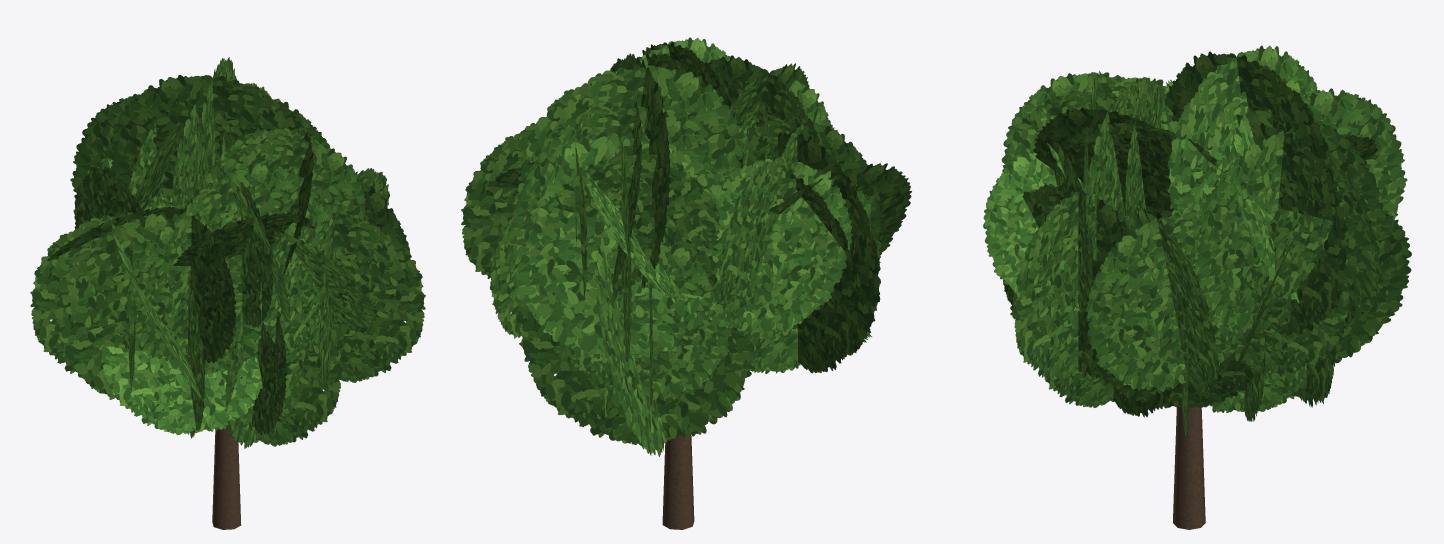
Rendered from oak_0.gltf.
The picture shows the model from 3 angles, left to right: view 1: azimuth 30°, elevation 25°; view 2: azimuth 150°, elevation 25°; view 3: azimuth 270°, elevation 25°; orthographic projection. The views are drawn at different scales.
Parts seen in each view (by area): view 1: oak_0; view 2: oak_0; view 3: oak_0.
Part boxes in pixels (left/top/right/bottom): oak_0: left=30, top=57, right=425, bottom=529; oak_0: left=461, top=37, right=911, bottom=529; oak_0: left=983, top=45, right=1411, bottom=529.
Bounding box in the file's own units: 1.92 × 2.11 × 1.8.
Materials: 2 (2 with a texture image).
